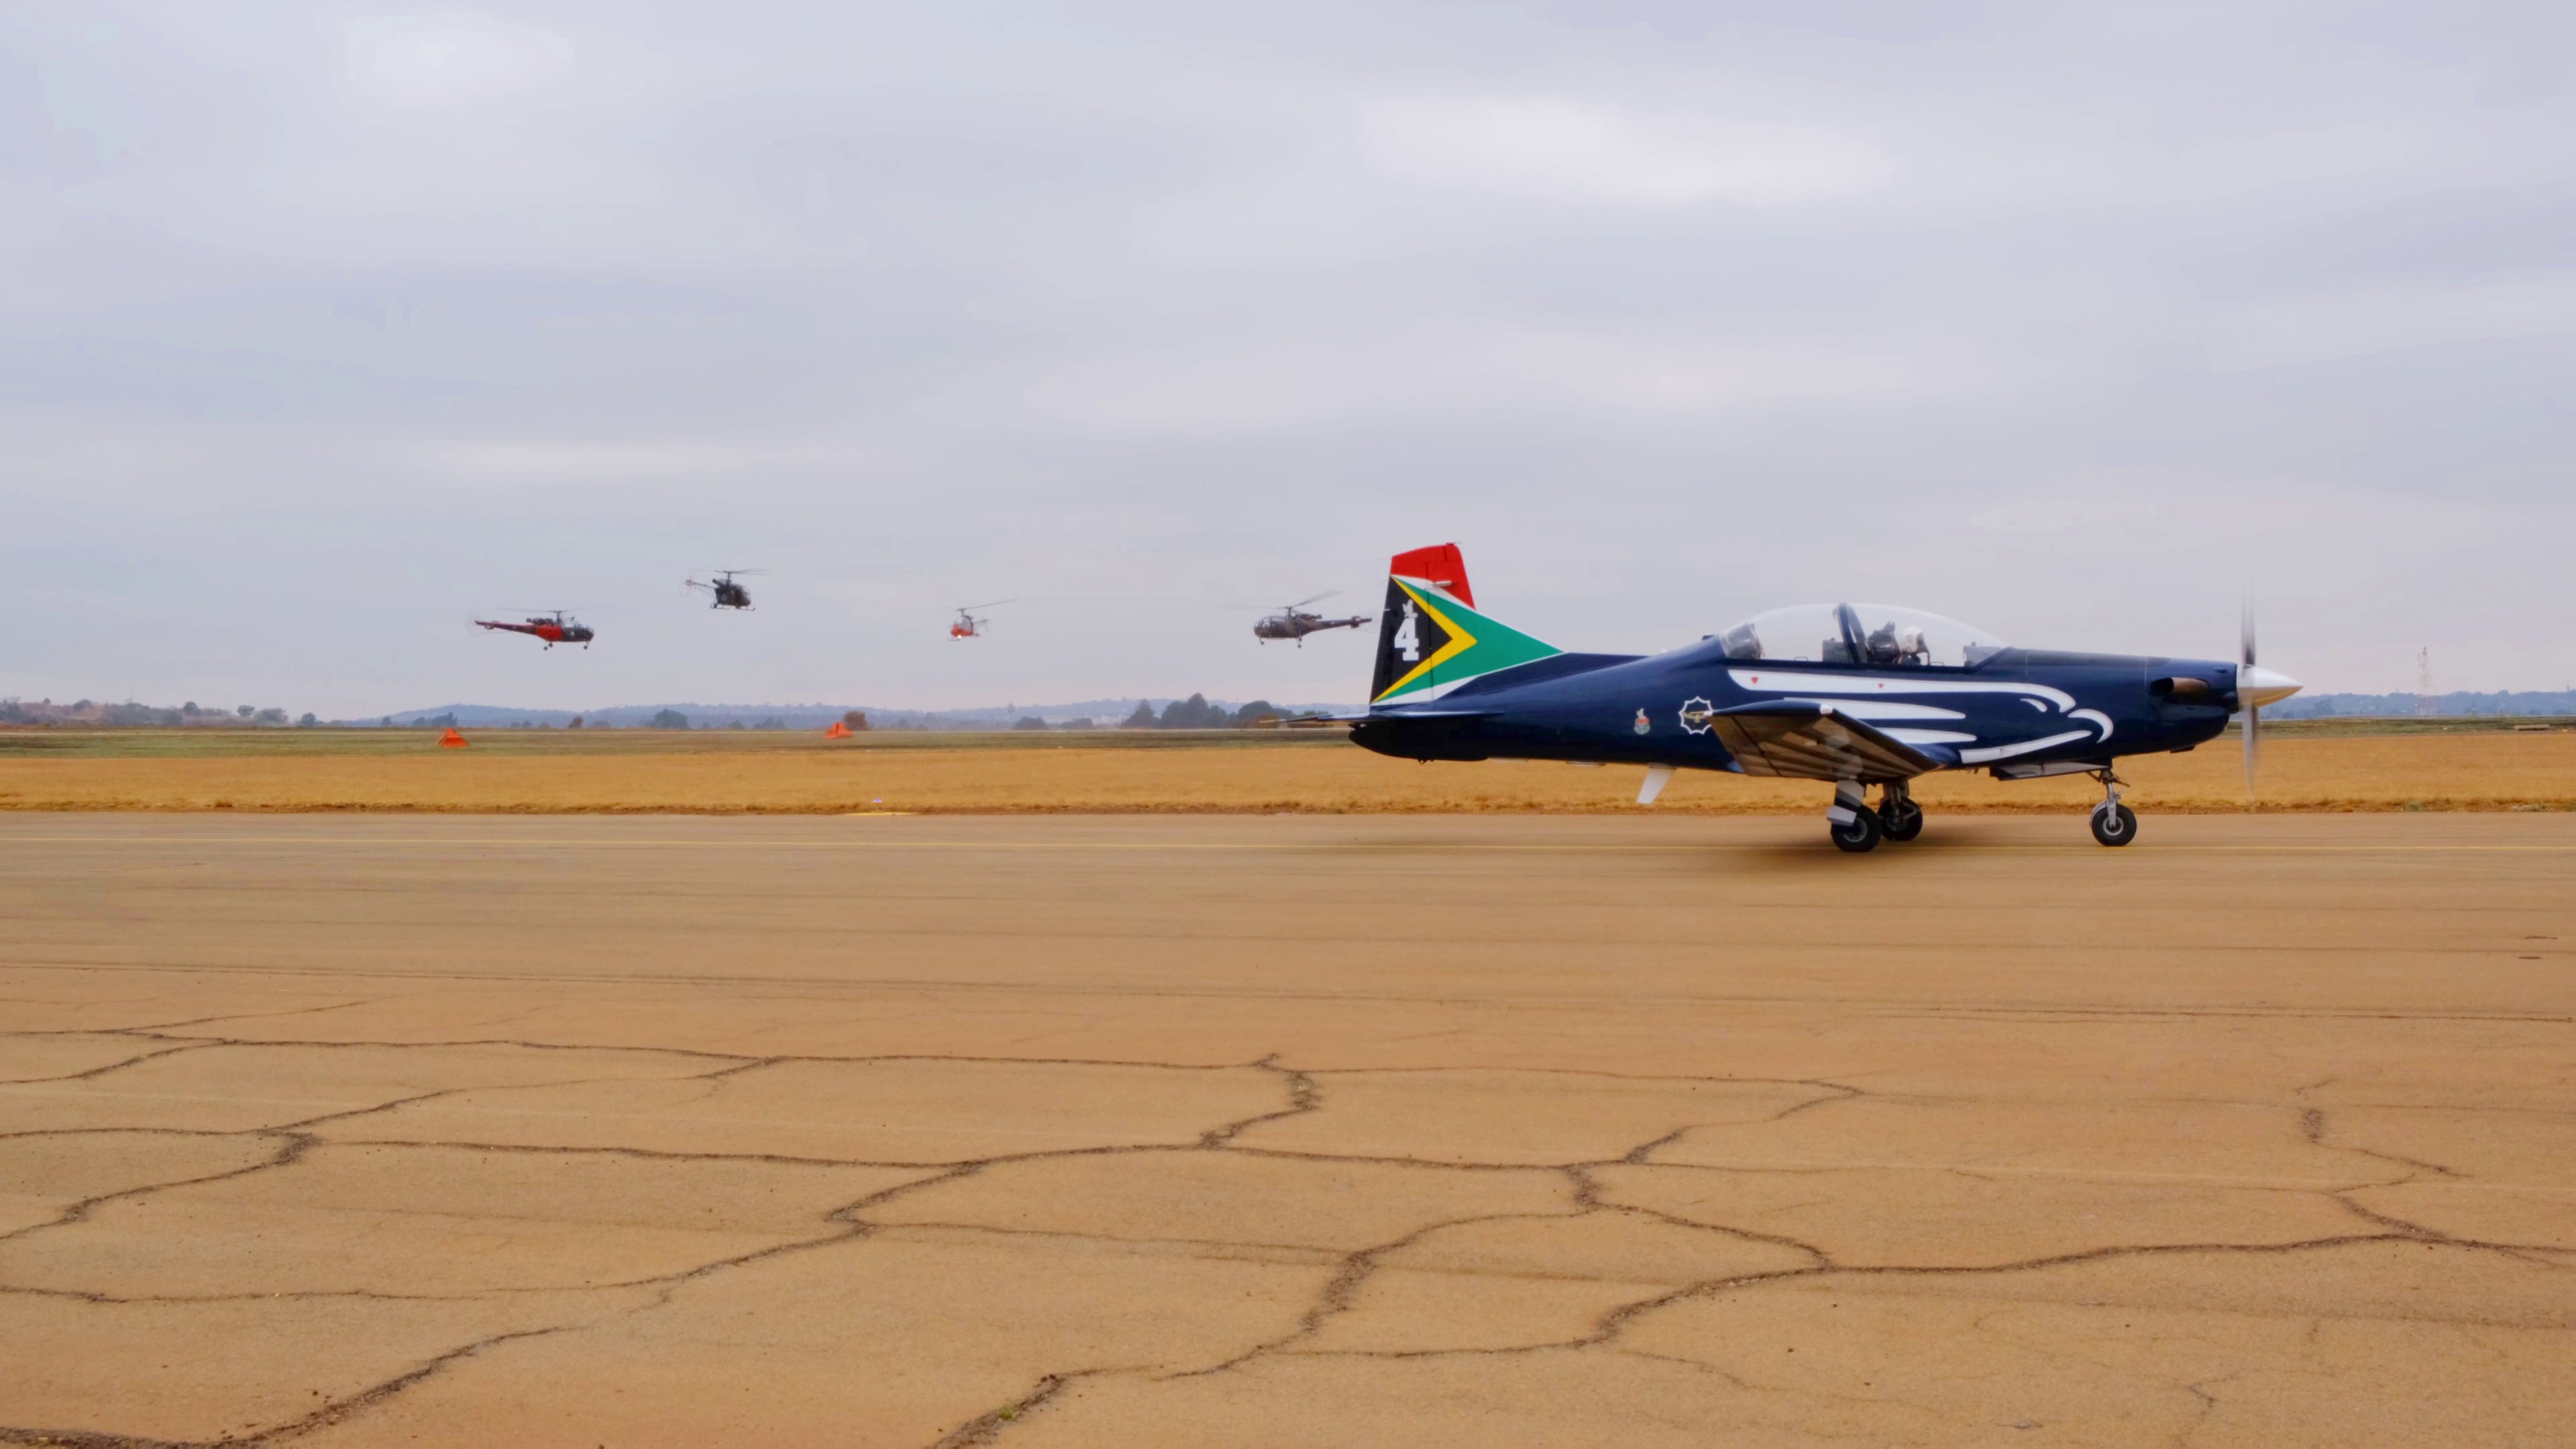heli: (1251, 600, 1369, 649), (476, 609, 602, 651), (681, 566, 761, 610), (950, 598, 1001, 644)
plane: (1343, 545, 2304, 847)
